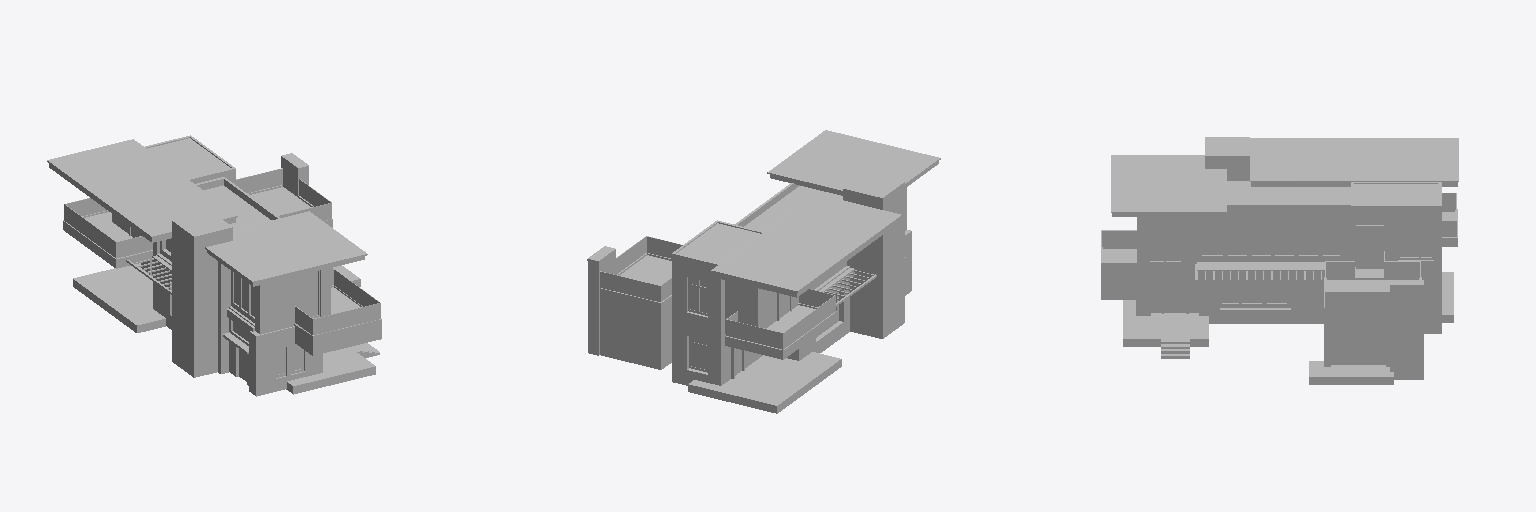
The model's file is House.obj.
The picture shows the model from 3 angles: view 1: azimuth 30°, elevation 25°; view 2: azimuth 150°, elevation 25°; view 3: azimuth 270°, elevation 25°; orthographic projection.
Visible parts, largest first — view 1: Cube; view 2: Cube; view 3: Cube.
Boxes of the visible parts, x1,y1,x2,y2 form: Cube: [47, 135, 381, 396]; Cube: [587, 130, 940, 413]; Cube: [1101, 137, 1458, 384].
Size of the model in its own units: 11.74 by 6.66 by 15.3.